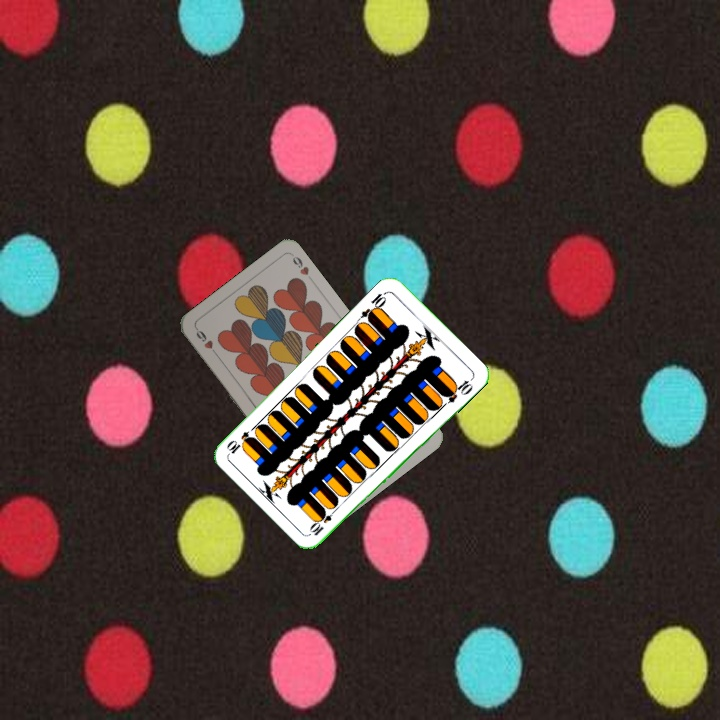E10: (306, 503, 339, 538), (357, 288, 389, 324)
H9: (192, 324, 221, 359)
